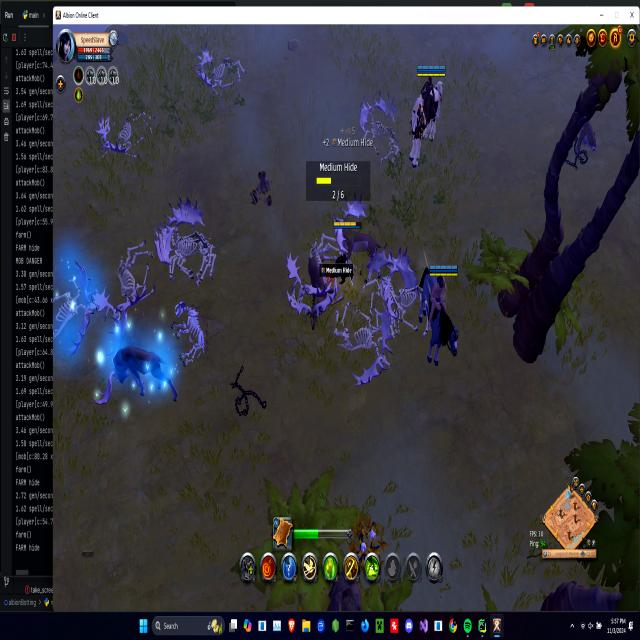hide: (352, 511, 385, 564)
mob: (288, 242, 345, 322), (335, 215, 384, 278)
ore: (104, 336, 181, 406), (574, 121, 602, 157)
red: (420, 256, 461, 375), (408, 63, 446, 167), (334, 219, 360, 286)
